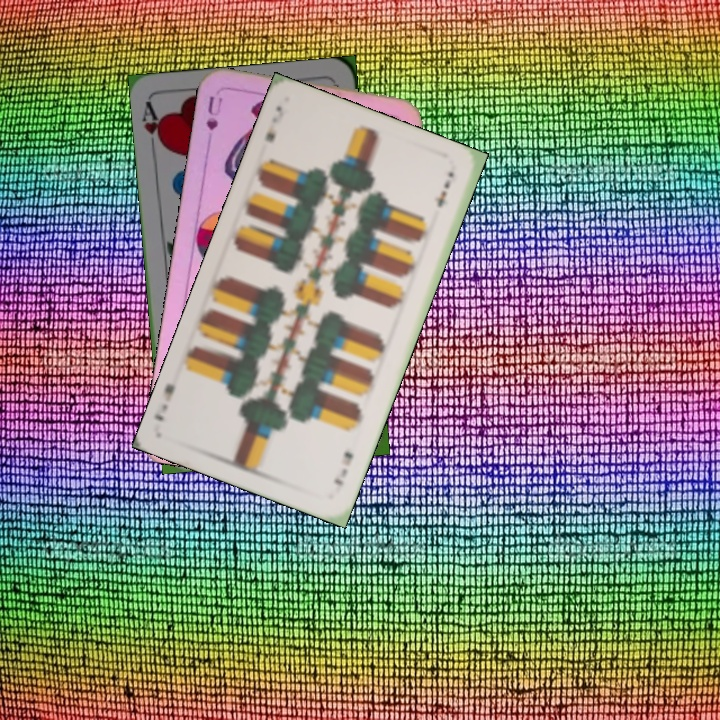E7: (261, 101, 286, 145), (329, 447, 355, 489)
HA: (138, 98, 168, 157)
SU: (202, 92, 225, 150)
